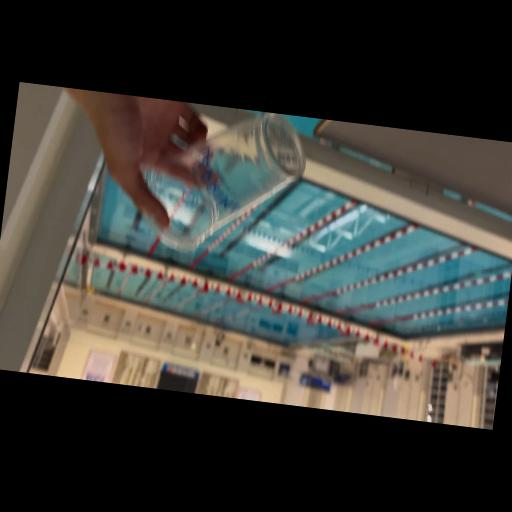lp_plastic_cup: (124, 98, 312, 268)
